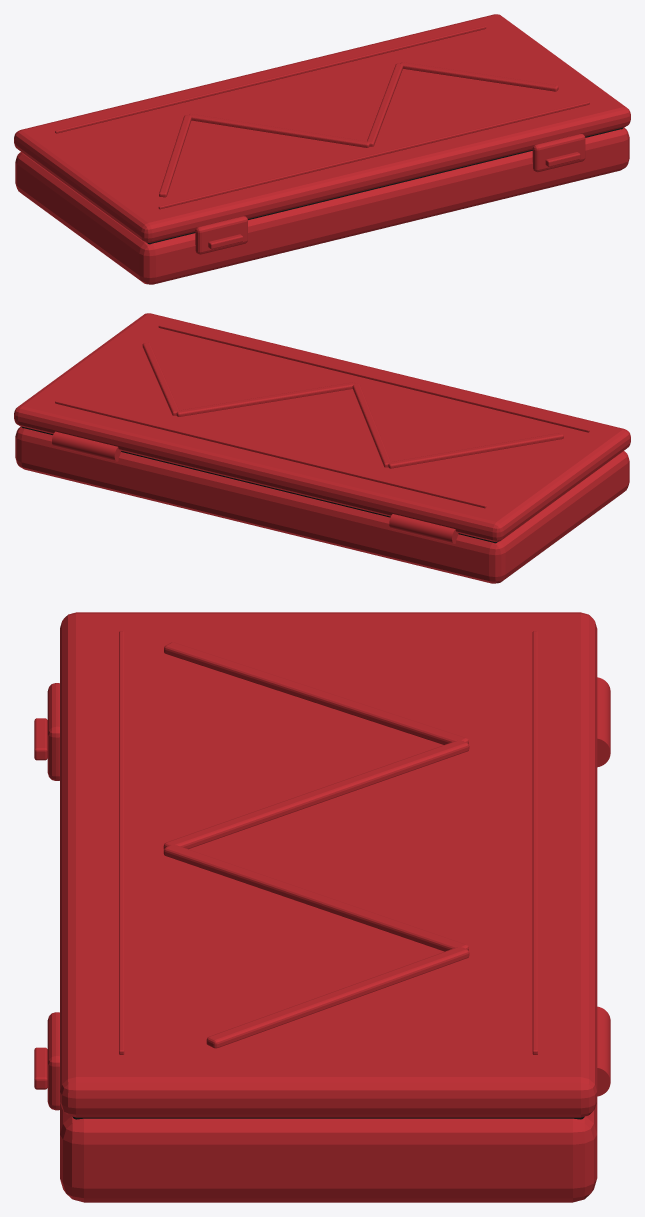
The picture shows the model from 3 angles, top to bottom: view 1: azimuth 30°, elevation 25°; view 2: azimuth 150°, elevation 25°; view 3: azimuth 270°, elevation 25°; orthographic projection. The views are drawn at different scales.
Parts seen in each view (by area): view 1: Red shallow lower shell, Dark red case split seam; view 2: Red shallow lower shell, Dark red case split seam; view 3: Red shallow lower shell, Dark red case split seam.
Part boxes in pixels (left/top/right/bottom): Red shallow lower shell: left=14, top=14, right=630, bottom=284; Dark red case split seam: left=147, top=127, right=623, bottom=244; Red shallow lower shell: left=14, top=313, right=630, bottom=583; Dark red case split seam: left=21, top=426, right=497, bottom=543; Red shallow lower shell: left=34, top=612, right=610, bottom=1202; Dark red case split seam: left=72, top=1116, right=584, bottom=1119.
Bounding box in the file's own units: 0.42 × 0.055 × 0.2145.
